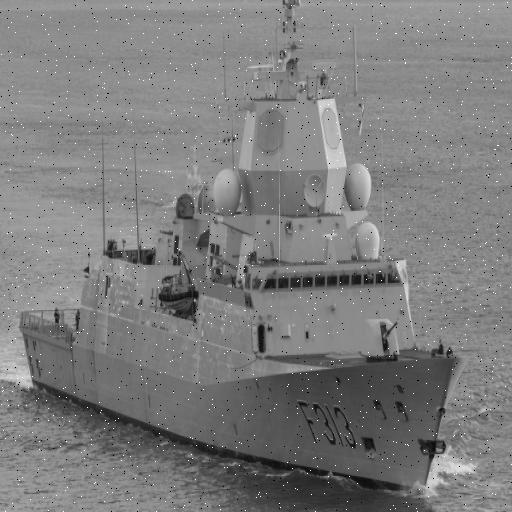Fragata: (12, 1, 465, 504)
